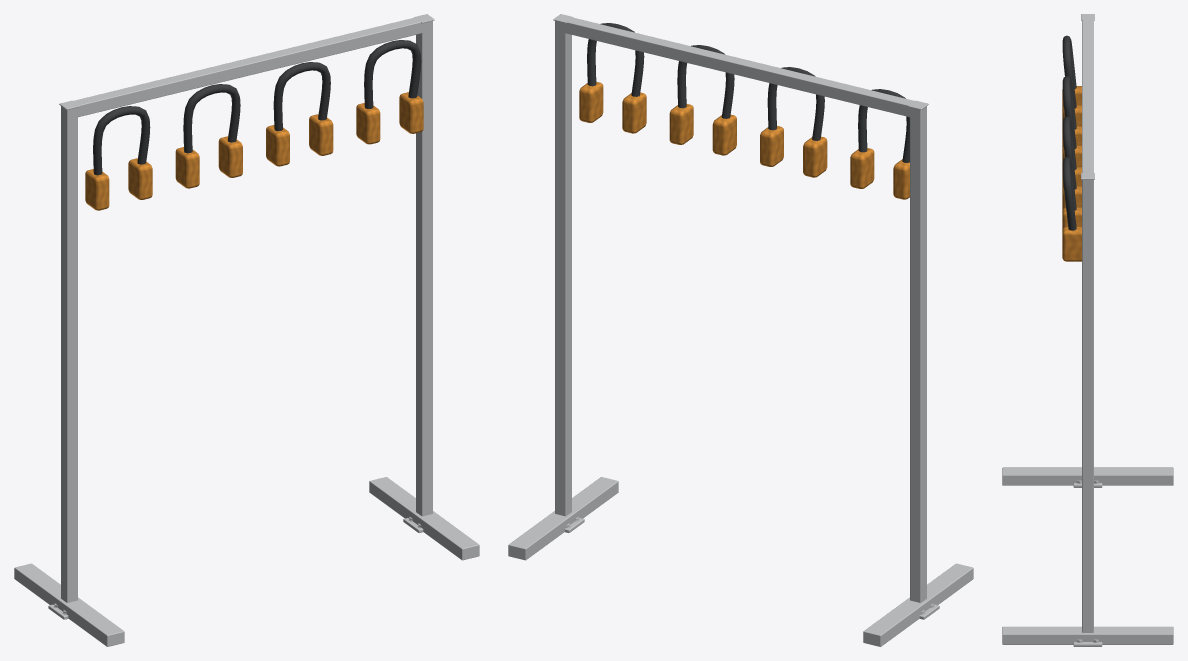
File: fps-weapon-set-and-firing-range-ear-defender-rack-c609e0cc__19508.glb
3 views of the same model, side by side, from view 1: azimuth 30°, elevation 25°; view 2: azimuth 150°, elevation 25°; view 3: azimuth 270°, elevation 25° (orthographic). The views are drawn at different scales.
Parts seen in each view (by area): view 1: ear-defender-rack; view 2: ear-defender-rack; view 3: ear-defender-rack.
Part boxes in pixels (<box>): ear-defender-rack: <box>14,14,479,646</box>; ear-defender-rack: <box>508,14,973,646</box>; ear-defender-rack: <box>1002,14,1173,646</box>.
Size of the model in its own units: 1.18 by 1.5 by 0.4999.
Materials: 3 (1 with a texture image).
